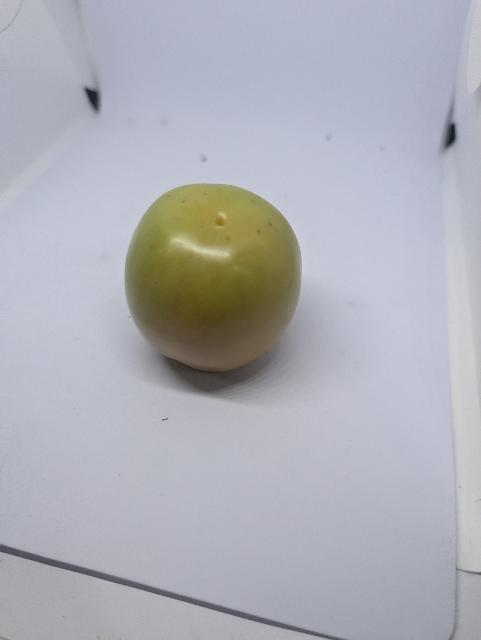breaker: (118, 180, 312, 374)
